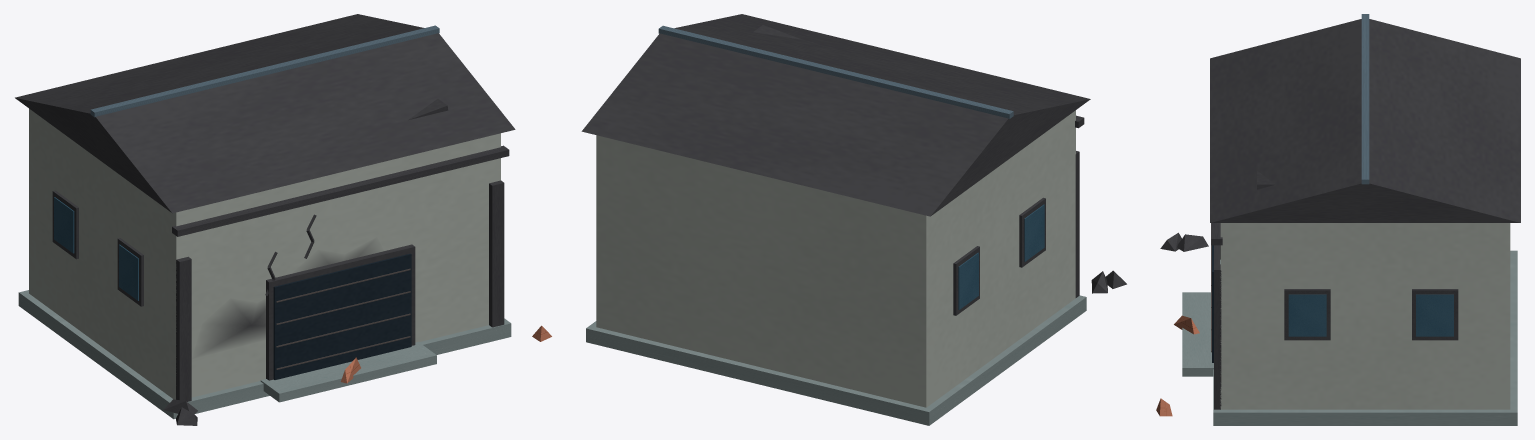
File: warehouse-burning-lod.glb
The picture shows the model from 3 angles, left to right: view 1: azimuth 30°, elevation 25°; view 2: azimuth 150°, elevation 25°; view 3: azimuth 270°, elevation 25°; orthographic projection. The views are drawn at different scales.
Parts seen in each view (by area): view 1: warehouse-burning-lod; view 2: warehouse-burning-lod; view 3: warehouse-burning-lod.
Part boxes in pixels (left/top/right/bottom): warehouse-burning-lod: left=15, top=14, right=551, bottom=425; warehouse-burning-lod: left=581, top=14, right=1126, bottom=425; warehouse-burning-lod: left=1156, top=14, right=1520, bottom=425.
Size of the model in its own units: 7.98 by 5.2 by 6.93.
3 materials, 3 textured.
